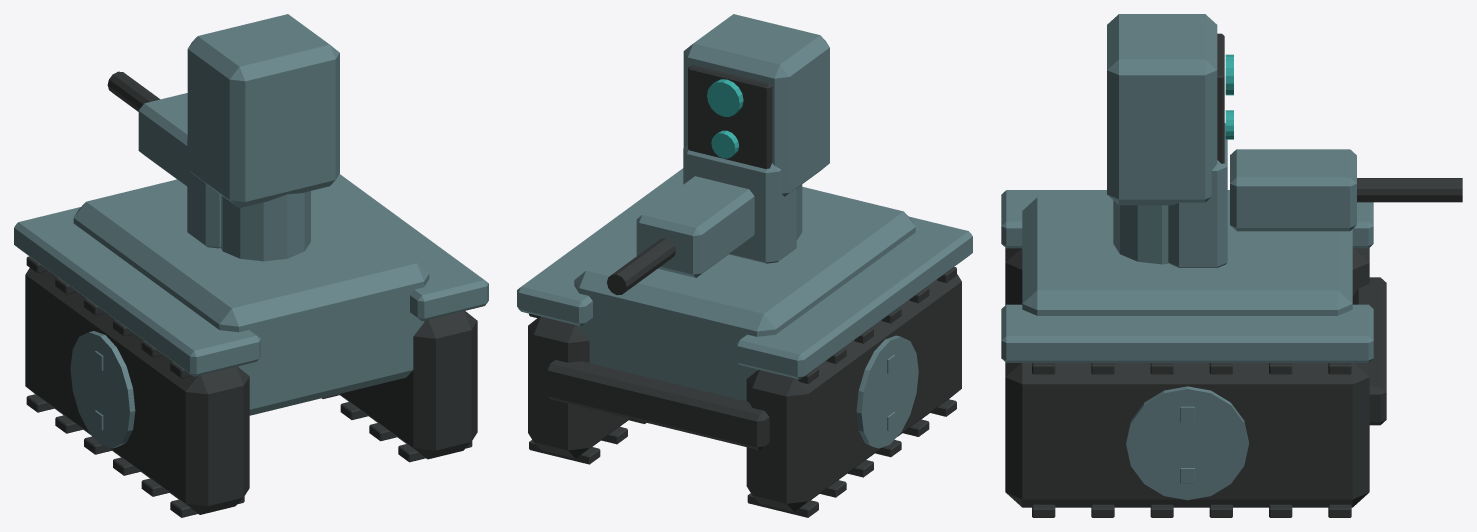
The model's file is ground_machine.glb.
3 renders of one model, left to right at view 1: azimuth 30°, elevation 25°; view 2: azimuth 150°, elevation 25°; view 3: azimuth 270°, elevation 25°, orthographic. The views are drawn at different scales.
Parts seen in each view (by area): view 1: Chassis, SensorMesh, left_wheel_mesh, PulseReceiver, FixedBarrel; view 2: Chassis, SensorMesh, PulseReceiver, left_wheel_mesh, FixedBarrel; view 3: Chassis, SensorMesh, right_wheel_mesh, PulseReceiver, FixedBarrel.
Part boxes in pixels (x1=…): Chassis: x1=14, y1=139, x2=488, y2=517; SensorMesh: x1=187, y1=14, x2=339, y2=208; left_wheel_mesh: x1=70, y1=331, x2=135, y2=448; PulseReceiver: x1=138, y1=93, x2=187, y2=186; FixedBarrel: x1=107, y1=71, x2=160, y2=111; Chassis: x1=517, y1=145, x2=972, y2=517; SensorMesh: x1=683, y1=14, x2=829, y2=196; PulseReceiver: x1=636, y1=176, x2=754, y2=277; left_wheel_mesh: x1=856, y1=335, x2=918, y2=448; FixedBarrel: x1=607, y1=238, x2=675, y2=295; Chassis: x1=1001, y1=123, x2=1386, y2=517; SensorMesh: x1=1107, y1=14, x2=1233, y2=205; right_wheel_mesh: x1=1126, y1=386, x2=1248, y2=500; PulseReceiver: x1=1230, y1=149, x2=1356, y2=231; FixedBarrel: x1=1357, y1=178, x2=1462, y2=202.
Bounding box in the file's own units: 0.861 × 1.06 × 1.09.
